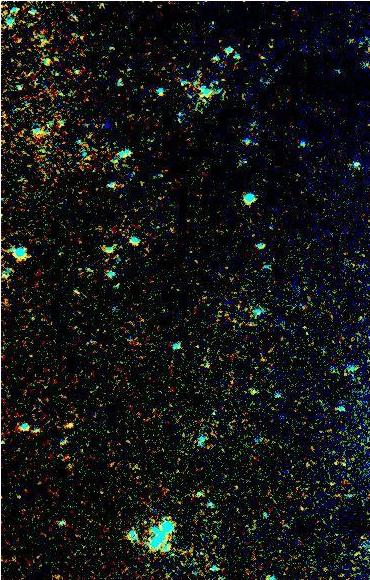star: (52, 410, 82, 440)
